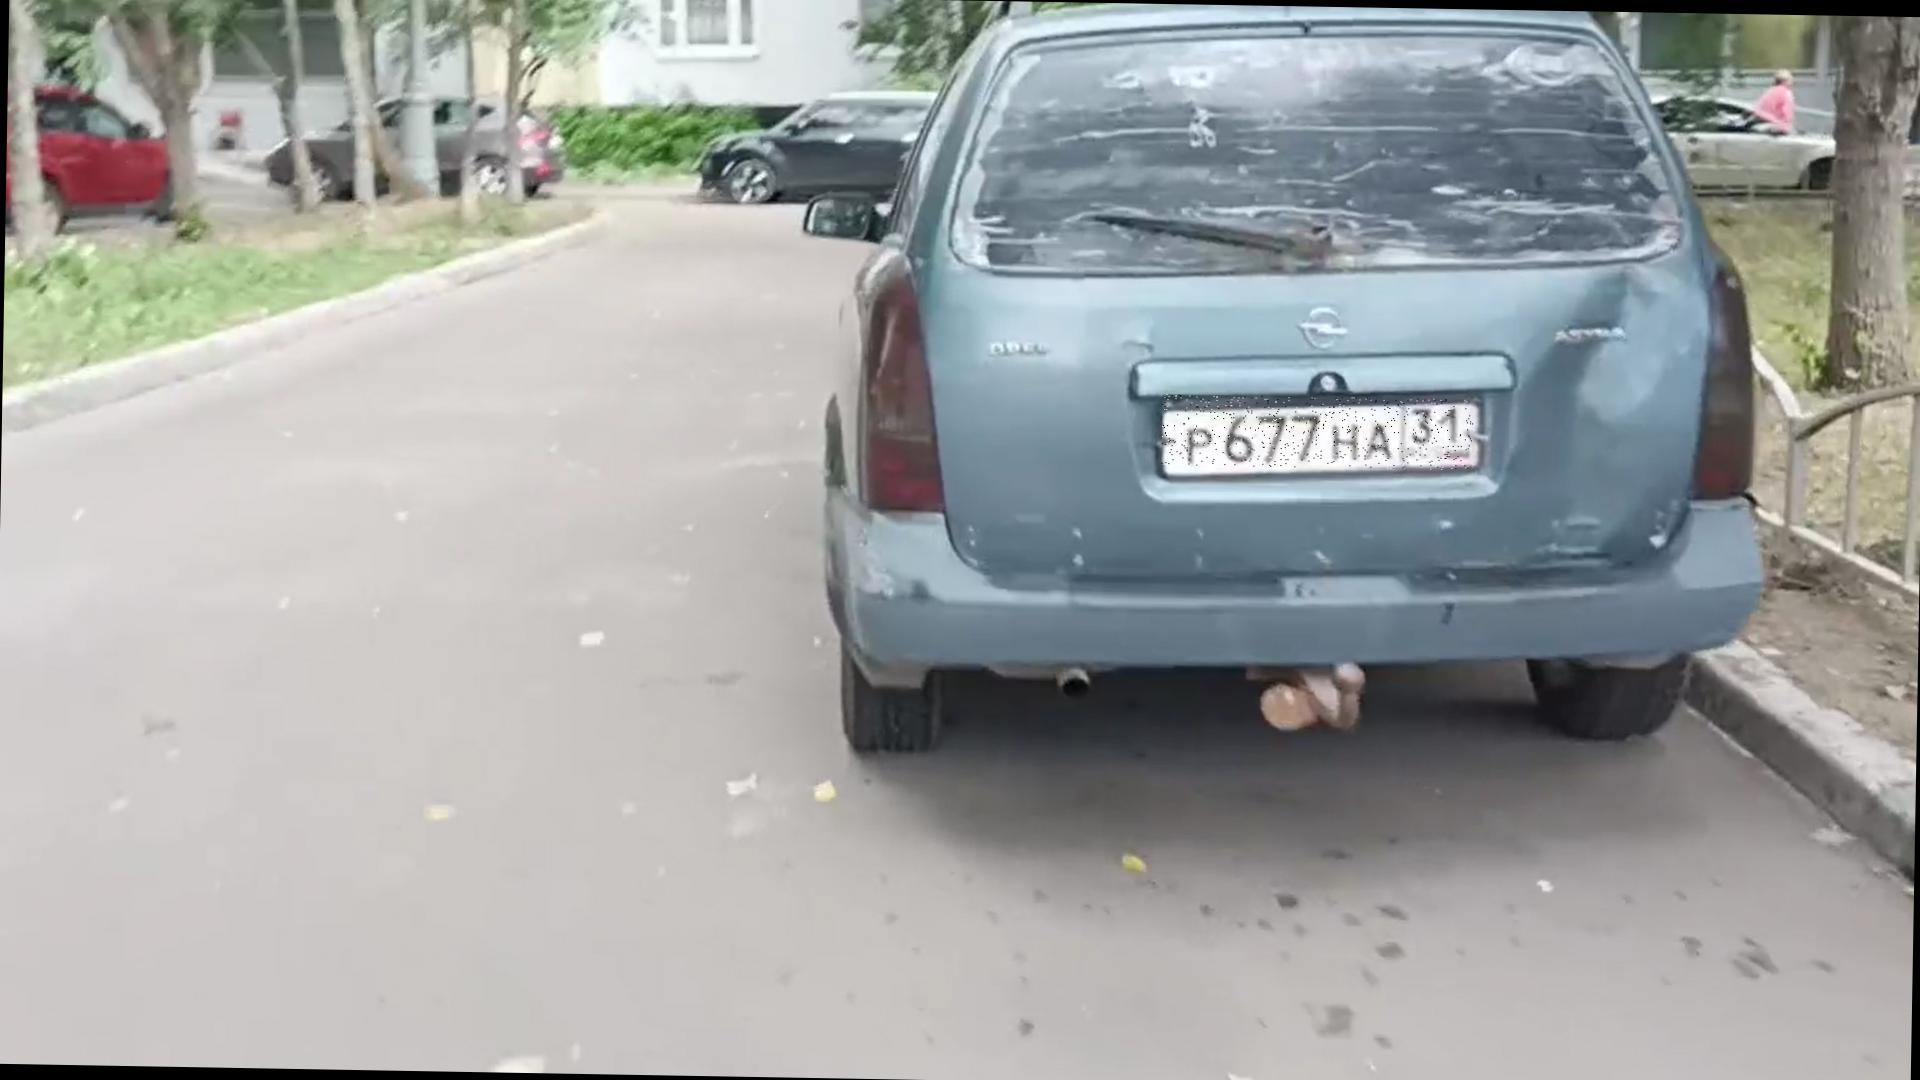plate: (1164, 395, 1476, 472)
